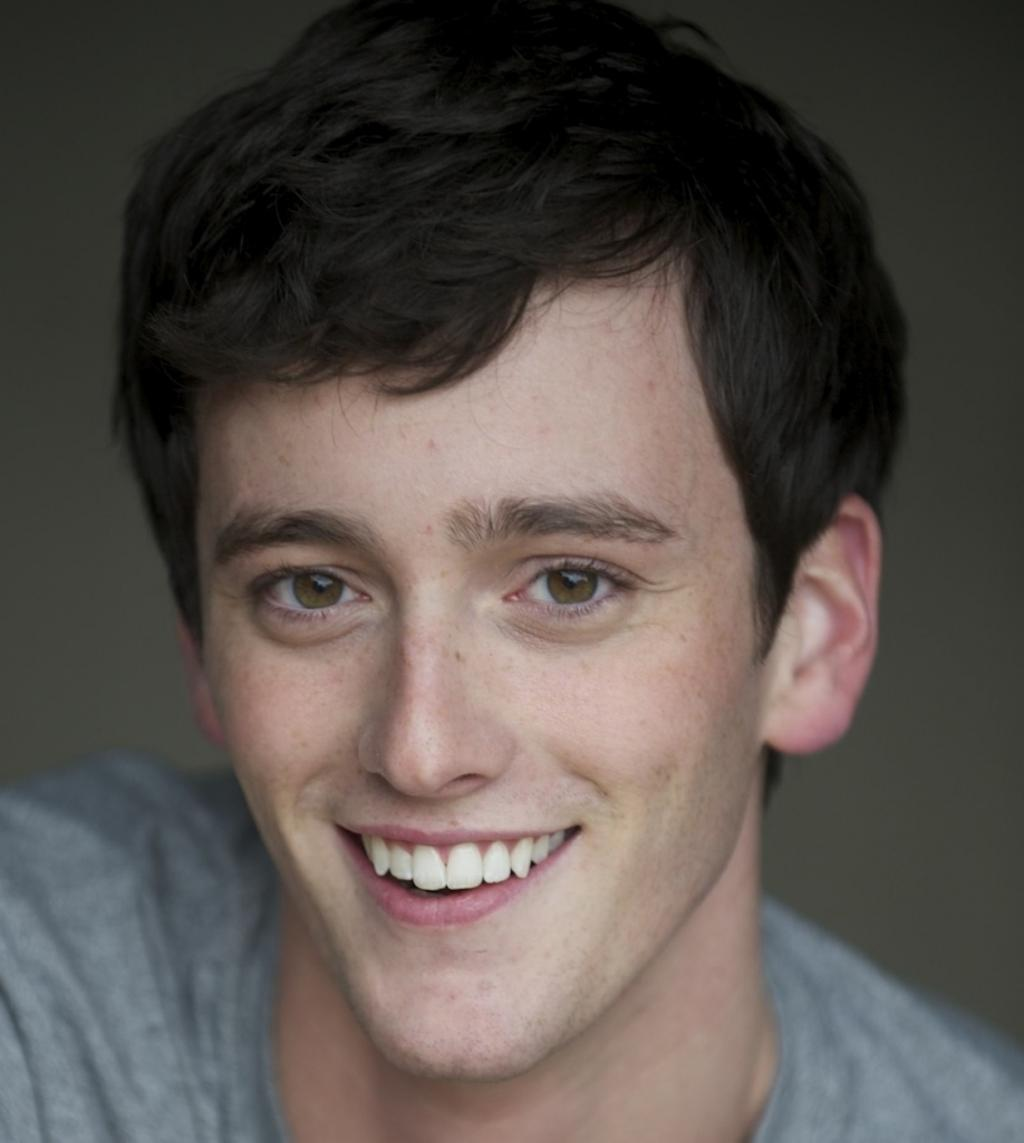face: (200, 260, 764, 1065)
